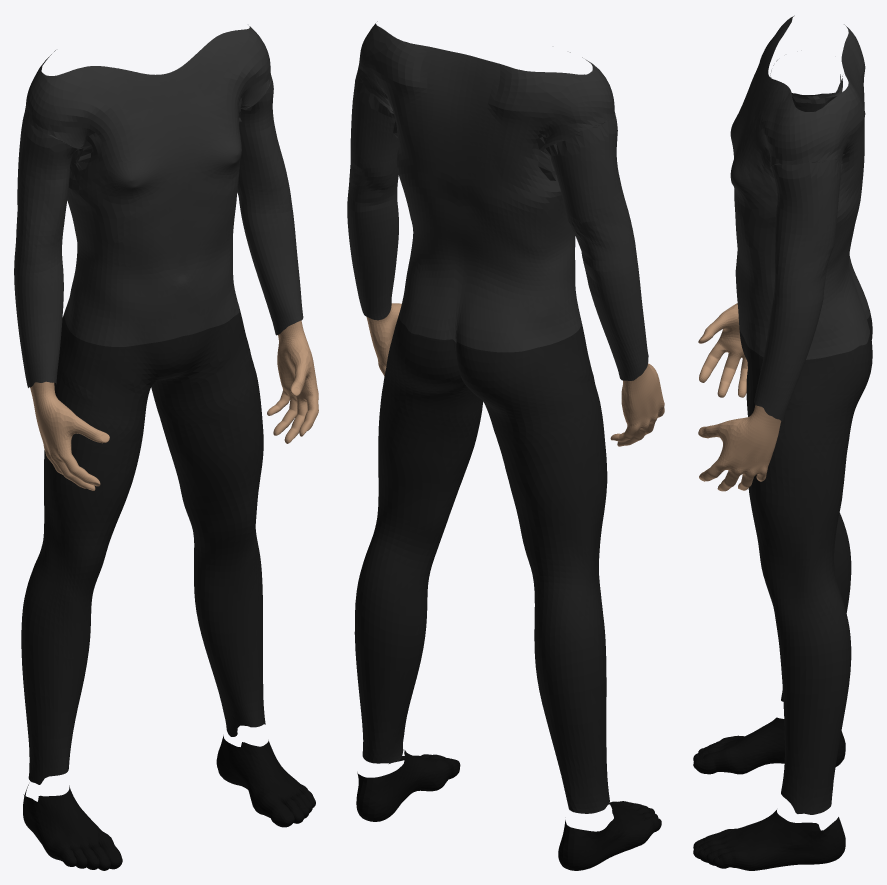
Rendered from hd_m_medium_body.glb.
3 views of the same model, side by side, from view 1: azimuth 30°, elevation 25°; view 2: azimuth 150°, elevation 25°; view 3: azimuth 270°, elevation 25° (orthographic). The views are drawn at different scales.
Parts seen in each view (by area): view 1: outfit, shoes, bodyskin; view 2: outfit, shoes, bodyskin; view 3: outfit, shoes, bodyskin.
Part boxes in pixels (bbox=[...]): outfit: bbox=[14, 26, 303, 784]; shoes: bbox=[23, 735, 315, 870]; bodyskin: bbox=[30, 320, 318, 490]; outfit: bbox=[347, 21, 648, 813]; shoes: bbox=[356, 750, 661, 870]; bodyskin: bbox=[366, 303, 664, 446]; outfit: bbox=[730, 15, 872, 814]; shoes: bbox=[693, 717, 845, 870]; bodyskin: bbox=[698, 303, 781, 491].
Bounding box in the file's own units: 0.5356 × 1.43 × 0.3069.
